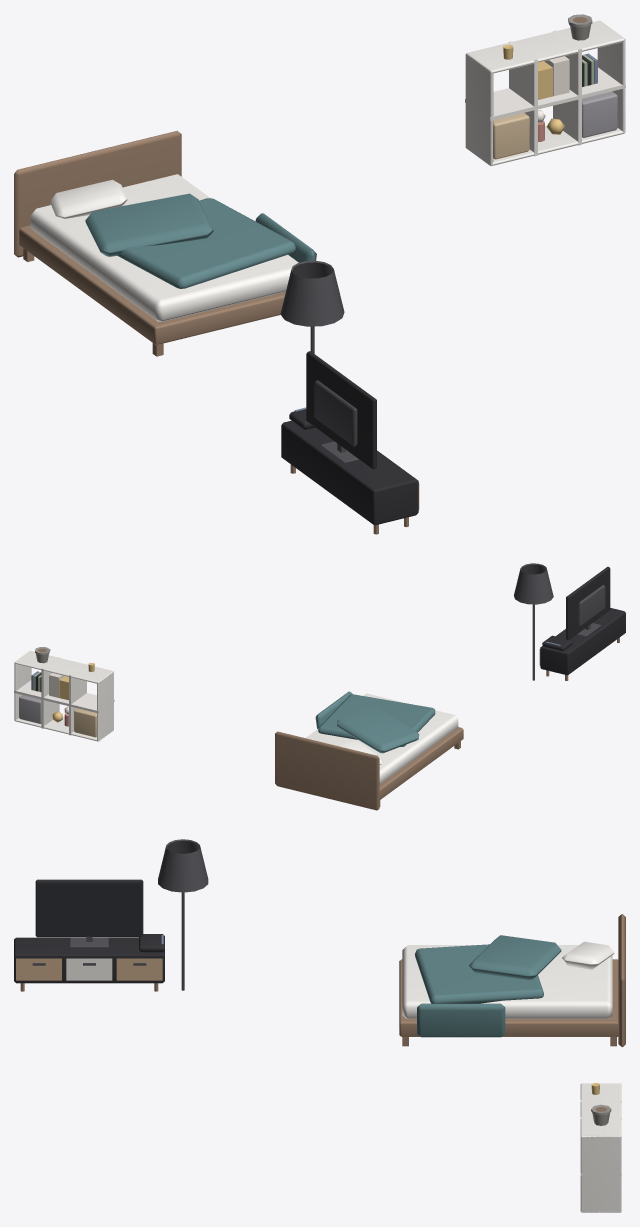
Rendered from einrichtung_freies_zimmer_bewohnt_buehne.glb.
3 renders of one model, top to bottom at view 1: azimuth 30°, elevation 25°; view 2: azimuth 150°, elevation 25°; view 3: azimuth 270°, elevation 25°, orthographic. The views are drawn at different scales.
Parts seen in each view (by area): view 1: einrichtung_freies_zimmer_bewohnt_buehne; view 2: einrichtung_freies_zimmer_bewohnt_buehne; view 3: einrichtung_freies_zimmer_bewohnt_buehne.
Part boxes in pixels (<box>): einrichtung_freies_zimmer_bewohnt_buehne: <box>14,14,625,534</box>; einrichtung_freies_zimmer_bewohnt_buehne: <box>14,563,625,810</box>; einrichtung_freies_zimmer_bewohnt_buehne: <box>14,839,625,1212</box>.
Size of the model in its own units: 5.22 by 1.5 by 5.68.
